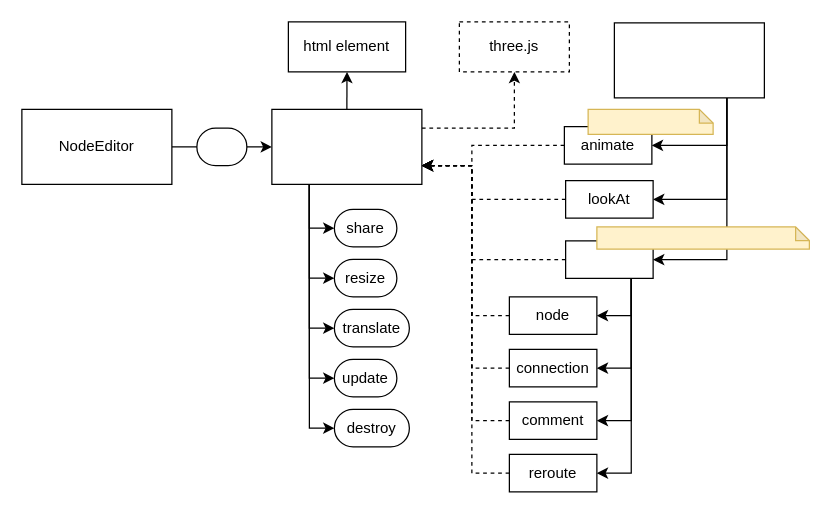
Some shapes in this 831 by 514 pixel diagram are drawn without their labels. The centre of each missing label's shape, as x and y in pixels:
"Area3DExtensions" belongs at point 688,60.
"Area3DPlugin" belongs at point 346,146.
"forms" belongs at point 608,259.
"HTML-into-3D composition" belongs at point 702,237.
"start rendering" belongs at point 650,121.
"use" belongs at point 221,146.
